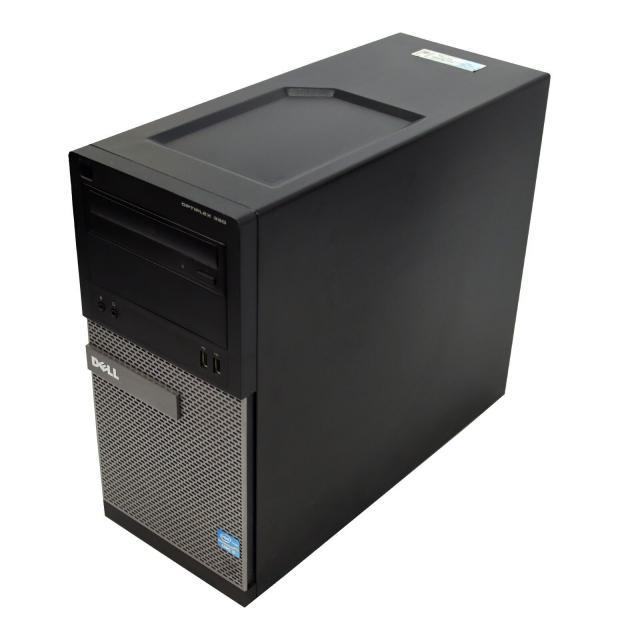Desktop-PC: (34, 37, 546, 608)
